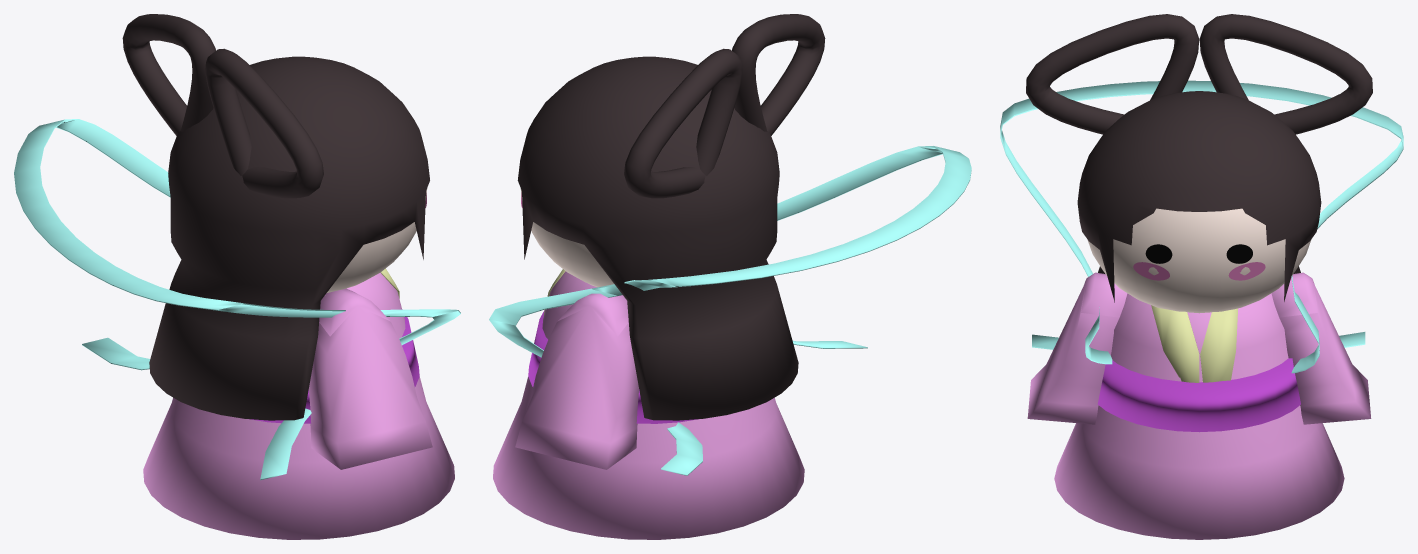
The picture shows the model from 3 angles, left to right: view 1: azimuth 30°, elevation 25°; view 2: azimuth 150°, elevation 25°; view 3: azimuth 270°, elevation 25°; orthographic projection. The views are drawn at different scales.
Visible parts, largest first — view 1: hair, body, arm, △hair, 羽衣, face, obi; view 2: hair, body, arm, △hair, 羽衣, face, obi; view 3: body, hair, △hair, arm, face, obi, 羽衣, eri, hoho, eye.
Part boxes in pixels (<box>): hair: <box>149,56,429,420</box>; body: <box>143,272,454,539</box>; arm: <box>308,288,432,469</box>; △hair: <box>122,14,323,198</box>; 羽衣: <box>14,119,460,480</box>; face: <box>327,188,427,292</box>; obi: <box>248,309,419,423</box>; hair: <box>517,56,798,420</box>; body: <box>493,271,804,539</box>; arm: <box>515,293,638,469</box>; △hair: <box>624,14,825,198</box>; 羽衣: <box>489,146,971,475</box>; face: <box>520,188,613,287</box>; obi: <box>528,310,699,423</box>; body: <box>1054,293,1344,539</box>; hair: <box>1077,91,1321,302</box>; △hair: <box>1026,14,1372,134</box>; arm: <box>1027,272,1371,424</box>; face: <box>1087,208,1310,313</box>; obi: <box>1097,358,1300,432</box>; 羽衣: <box>1000,80,1403,373</box>; eri: <box>1151,305,1237,382</box>; hoho: <box>1133,262,1265,280</box>; eye: <box>1145,244,1252,263</box>.
Bounding box in the file's own units: 355 × 390 × 337.
